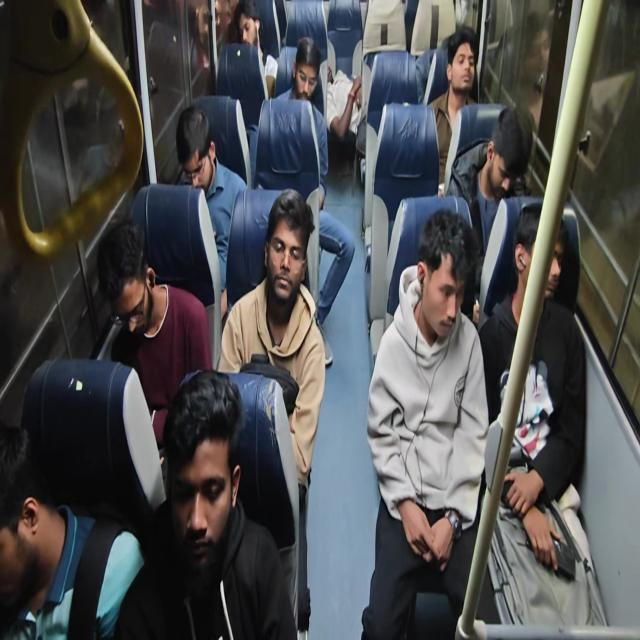person: (162, 374, 237, 566), (0, 427, 70, 581), (96, 218, 162, 348), (418, 194, 472, 346), (509, 202, 571, 310), (264, 183, 308, 317), (168, 111, 225, 196), (486, 112, 531, 206), (436, 30, 480, 104), (236, 3, 268, 58), (295, 36, 320, 101)
